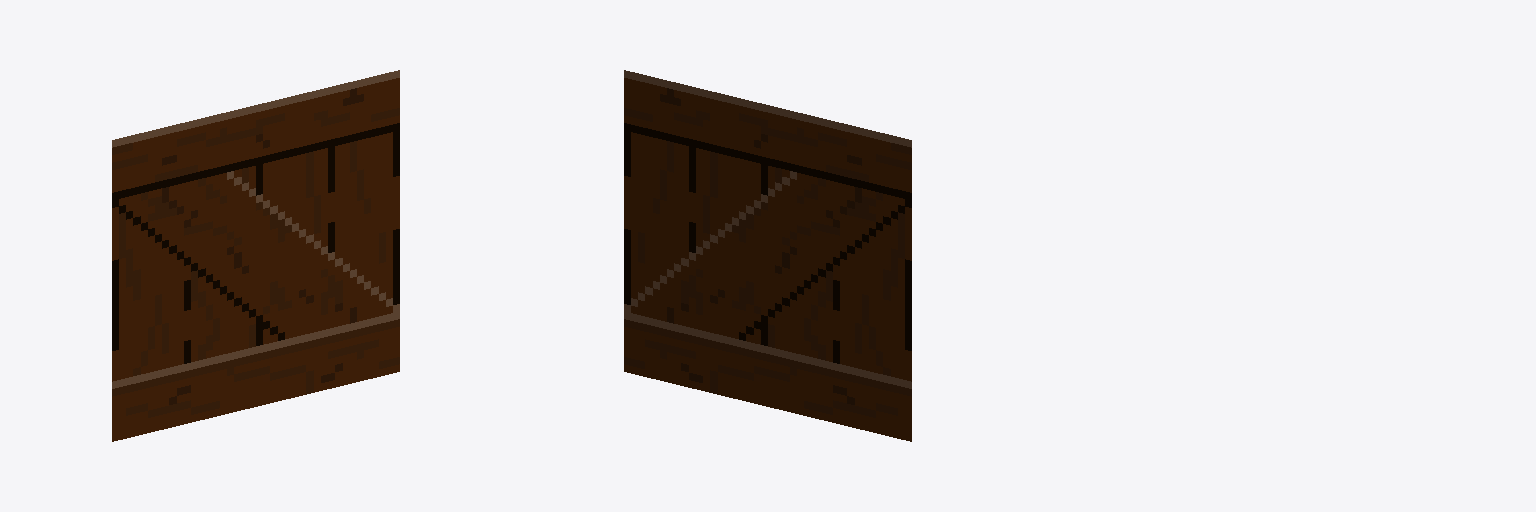
3 views of the same model, side by side, from view 1: azimuth 30°, elevation 25°; view 2: azimuth 150°, elevation 25°; view 3: azimuth 270°, elevation 25° (orthographic).
Visible parts, largest first — view 1: 平面; view 2: 平面; view 3: none.
Part boxes in pixels (x1,y1,x2,y2): 平面: (112, 70, 399, 441); 平面: (624, 70, 911, 441).
Size of the model in its own units: 2 by 2 by 0.
1 materials, 1 textured.